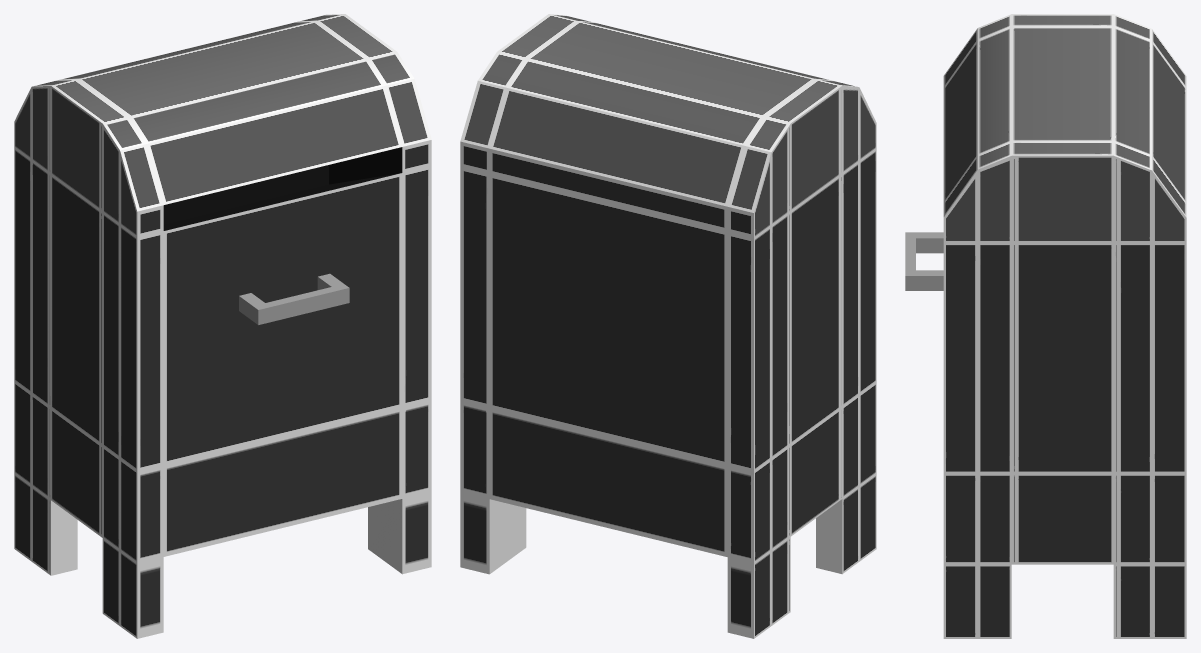
Rendered from MailBoxGGJ.fbx.
3 views of the same model, side by side, from view 1: azimuth 30°, elevation 25°; view 2: azimuth 150°, elevation 25°; view 3: azimuth 270°, elevation 25° (orthographic).
Visible parts, largest first — view 1: pCube4; view 2: pCube4; view 3: pCube4.
Boxes of the visible parts, box(x1,y1,x2,y2) form: pCube4: box(14, 14, 431, 638); pCube4: box(460, 14, 876, 638); pCube4: box(905, 14, 1186, 638).
Bounding box in the file's own units: 2.61 × 4.14 × 2.18.
